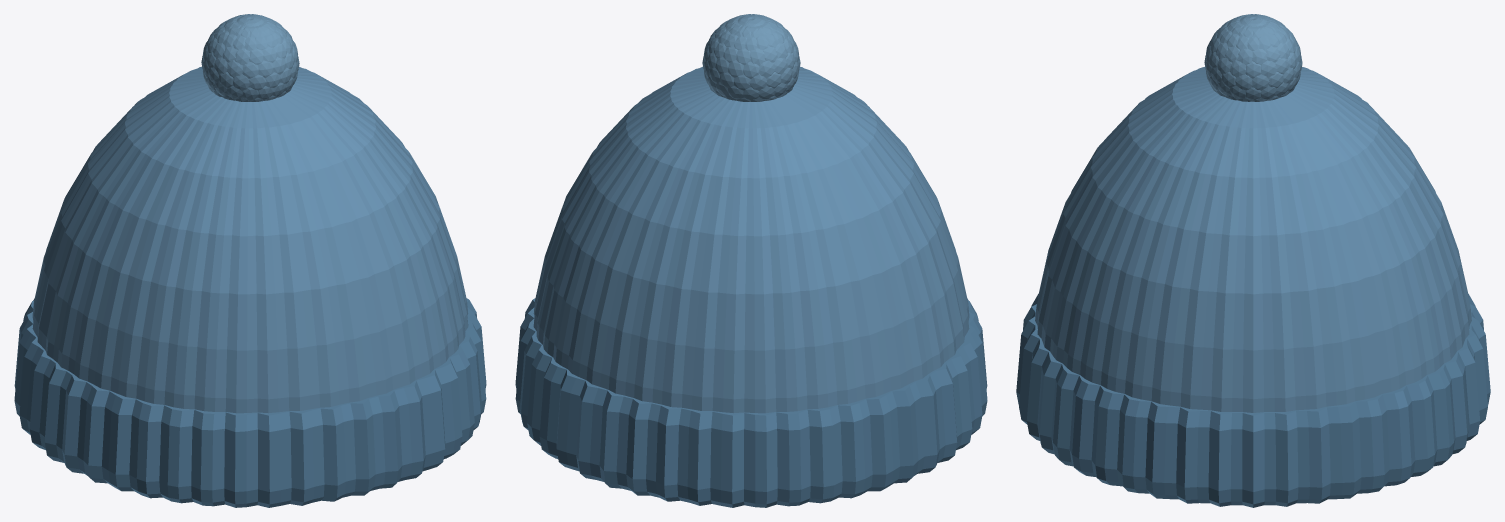
The model's file is Beanie.glb.
3 views of the same model, side by side, from view 1: azimuth 30°, elevation 25°; view 2: azimuth 150°, elevation 25°; view 3: azimuth 270°, elevation 25° (orthographic).
Visible parts, largest first — view 1: beanie_part_1, beanie_part_0; view 2: beanie_part_1, beanie_part_0; view 3: beanie_part_1, beanie_part_0.
Part boxes in pixels (left/top/right/bottom): beanie_part_1: left=32, top=66, right=468, bottom=413; beanie_part_0: left=14, top=298, right=486, bottom=507; beanie_part_1: left=533, top=66, right=969, bottom=413; beanie_part_0: left=515, top=298, right=987, bottom=507; beanie_part_1: left=1035, top=67, right=1471, bottom=412; beanie_part_0: left=1016, top=294, right=1490, bottom=507.
Size of the model in its own units: 1.93 by 1.77 by 1.93.
